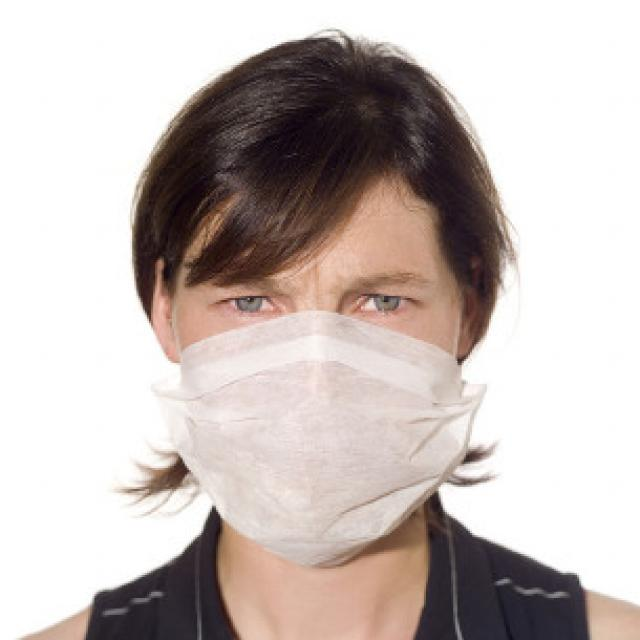mask: (169, 168, 452, 558)
